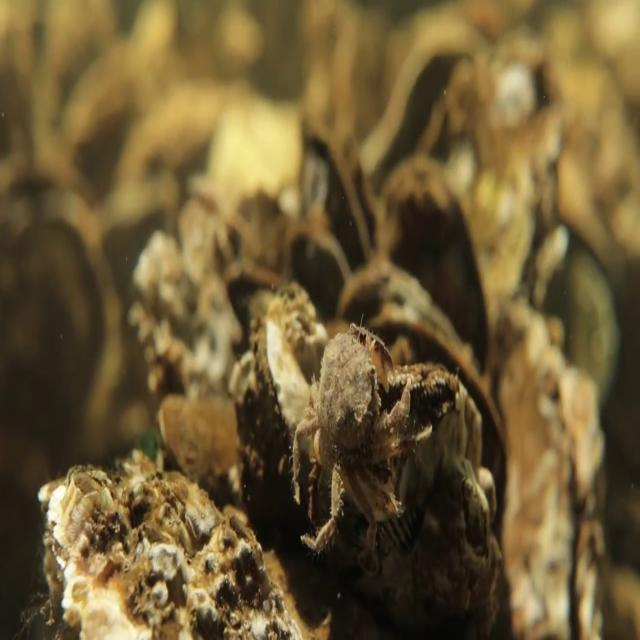Oyster-Closed: (30, 430, 315, 637), (495, 302, 620, 636), (249, 323, 314, 486)
